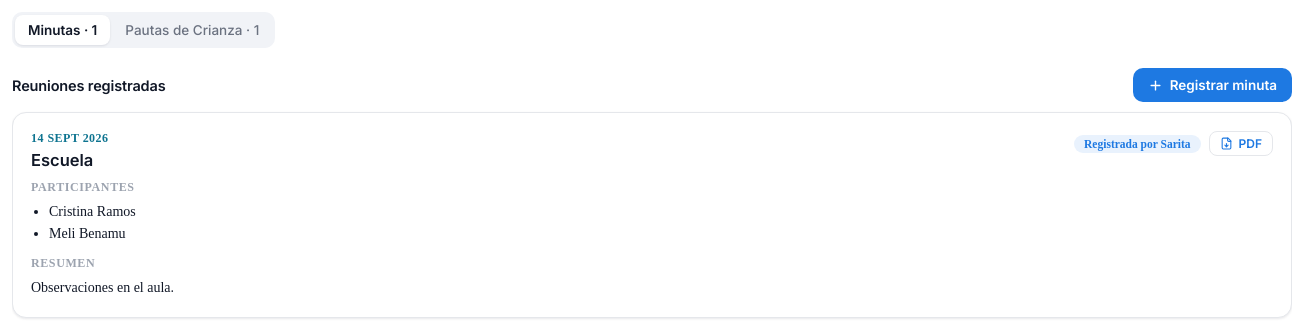
it: pestañas del interdisciplinario › cambiar de pestaña cambia lo que se ve
The width and height of the screenshot is (1304, 336).
Click the button "Pautas de Crianza · 1": (192, 30) [112,15,272,45]
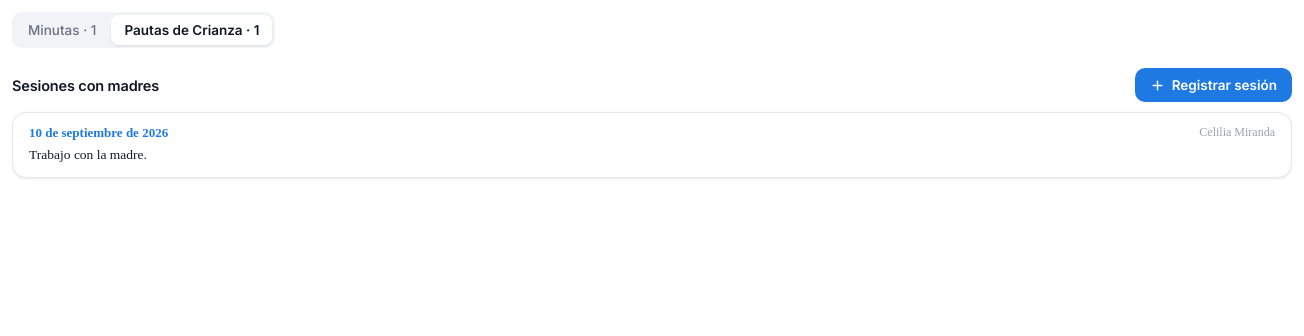
Expected: the text "Trabajo con la madre." is shown, [29,147,147,162]
Expected: the text "Observaciones en el aula." is gone
